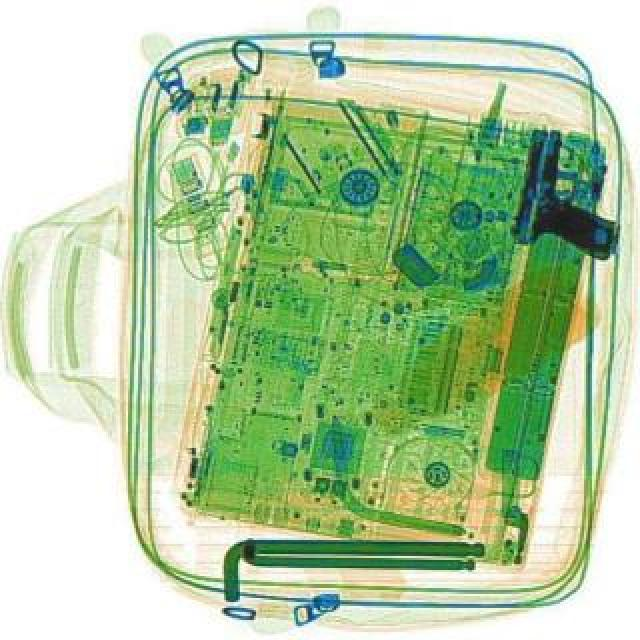gun: (510, 124, 638, 260)
